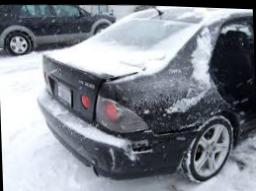Bumper: (76, 132, 152, 178), (132, 120, 203, 159)
Dickey: (45, 50, 151, 127)
